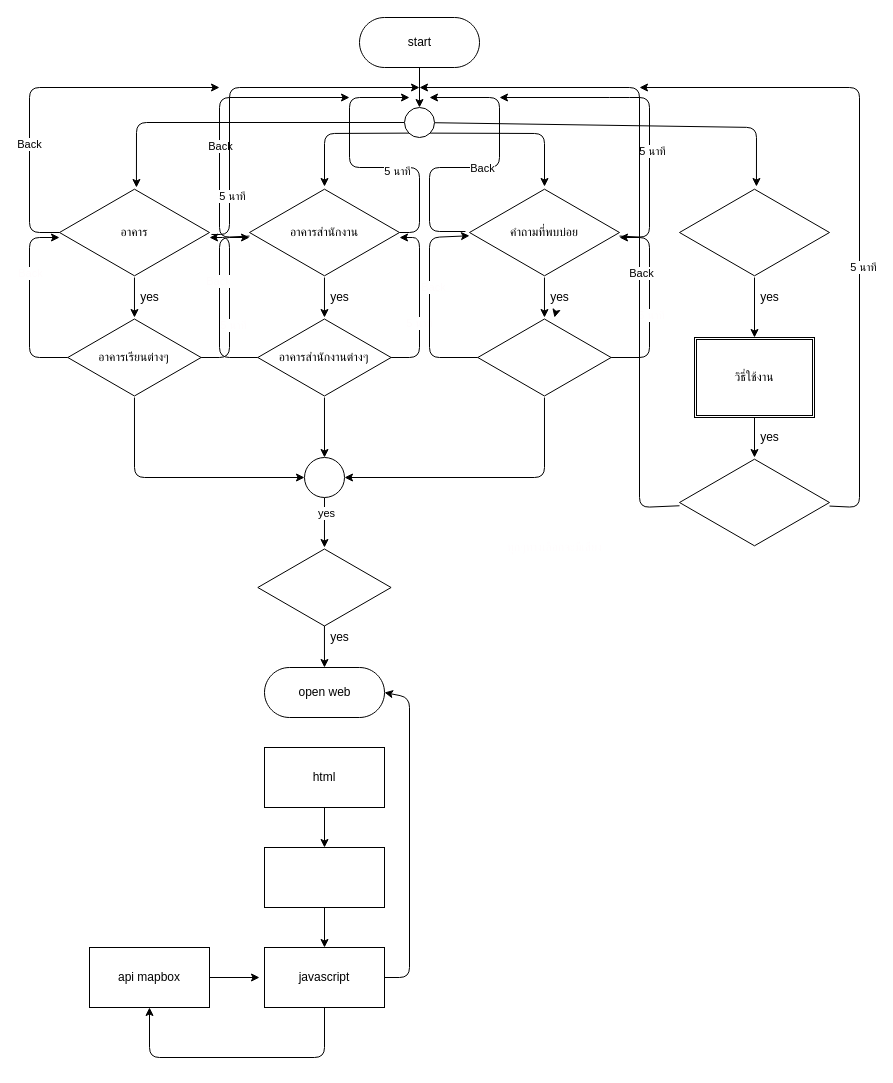
Image size: 893x1083. Some labels were removed from this diagram. Here are the shapes that lost their labels. From the top down, the centre of each, then its label:
At point (754, 232): "วิธีใช้งาน".
At point (544, 357): "หัวข้อคำถามที่พบบ่อย".
At point (754, 502): "button".
At point (324, 587): "ข้อมูล/แผนที่".
At point (324, 877): "css".
